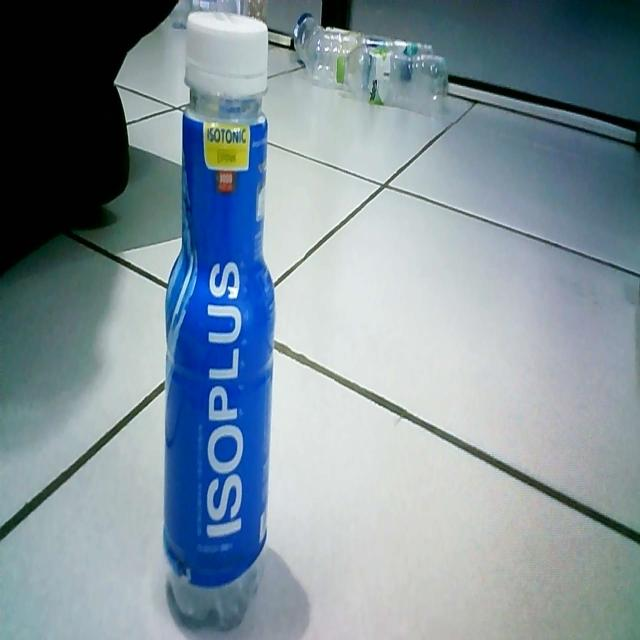botol: (160, 9, 277, 634)
